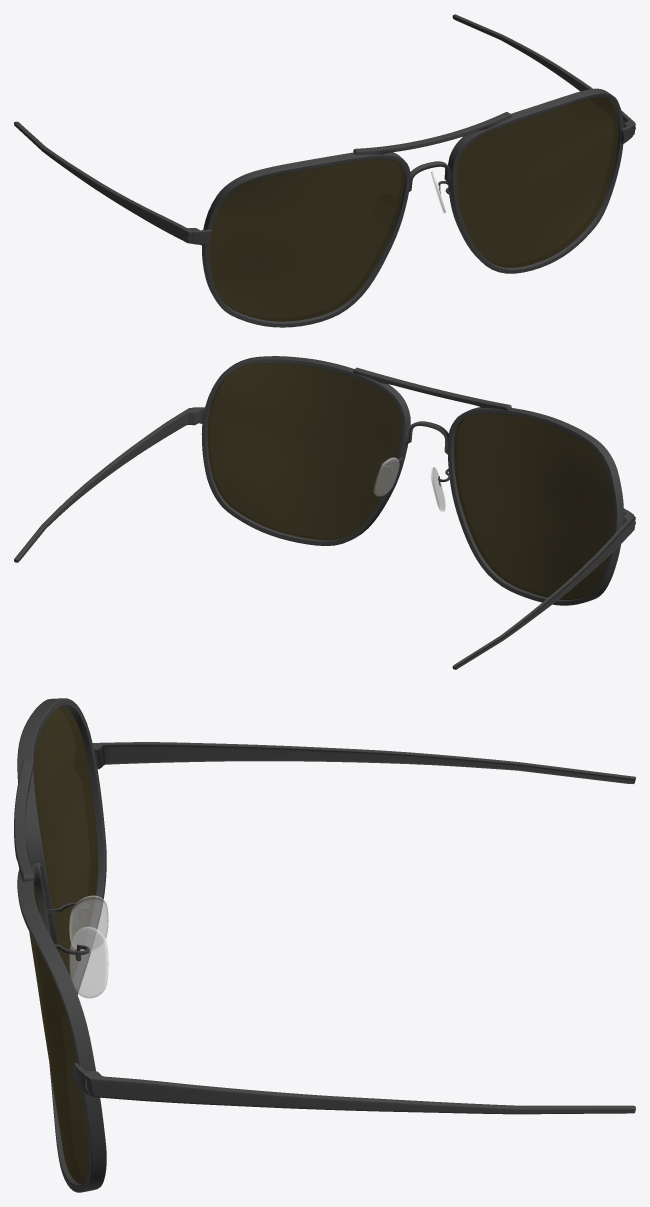
File: Chromance_single_GLB.glb
3 views of the same model, one above another, from view 1: azimuth 30°, elevation 25°; view 2: azimuth 150°, elevation 25°; view 3: azimuth 270°, elevation 25° (orthographic). The views are drawn at different scales.
Visible parts, largest first — view 1: armacao; view 2: armacao; view 3: armacao.
Boxes of the visible parts, x1,y1,x2,y2 form: armacao: (14,14,635,327); armacao: (14,356,635,669); armacao: (14,698,635,1192).
Bounding box in the file's own units: 0.1573 × 0.0556 × 0.1173.
Materials: 1 (1 with a texture image).
